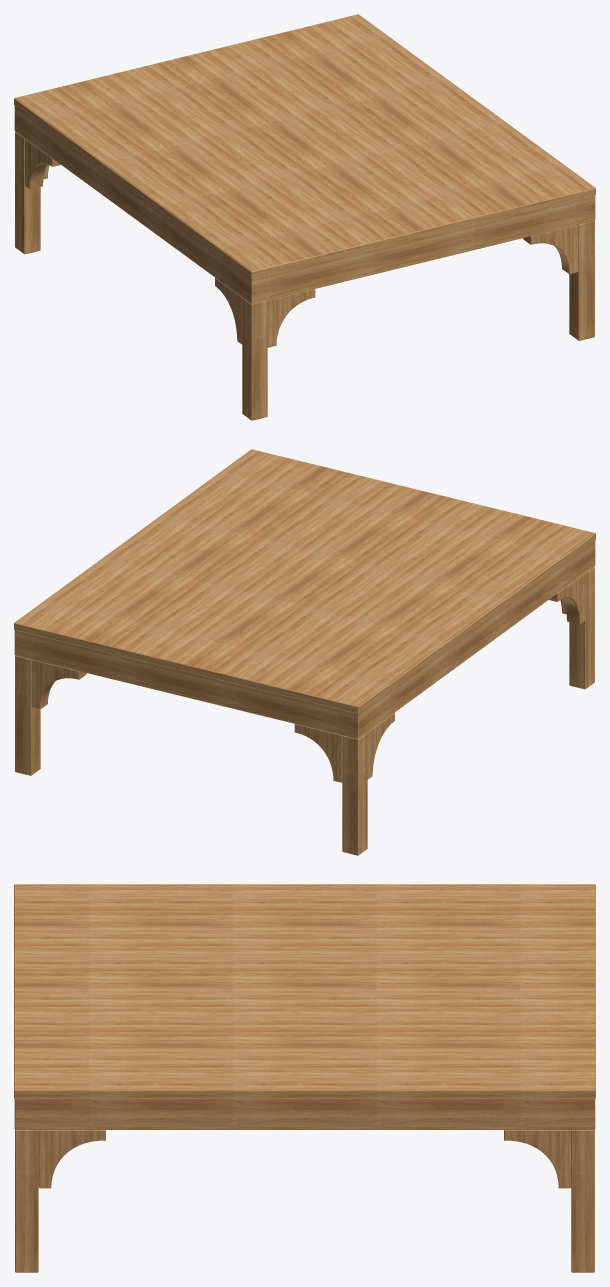
File: Table 2.obj
3 views of the same model, one above another, from view 1: azimuth 30°, elevation 25°; view 2: azimuth 150°, elevation 25°; view 3: azimuth 270°, elevation 25° (orthographic). The views are drawn at different scales.
Visible parts, largest first — view 1: Box02, Box20, Box19, Box21, Rectangle04, Rectangle08, Rectangle05, Rectangle07; view 2: Box02, Box21, Box06, Box20, Rectangle02, Rectangle06, Rectangle07, Rectangle05; view 3: Box02, Box19, Box06, Rectangle03, Rectangle01.
Boxes of the visible parts, bbox=[...] form: Box02: bbox=[14, 14, 595, 303]; Box20: bbox=[242, 297, 267, 420]; Box19: bbox=[569, 220, 594, 340]; Box21: bbox=[15, 131, 40, 254]; Rectangle04: bbox=[523, 225, 578, 274]; Rectangle08: bbox=[267, 289, 315, 347]; Rectangle05: bbox=[25, 138, 60, 189]; Rectangle07: bbox=[215, 277, 242, 344]; Box02: bbox=[14, 449, 595, 738]; Box21: bbox=[342, 732, 367, 855]; Box06: bbox=[15, 655, 40, 775]; Box20: bbox=[569, 566, 594, 689]; Rectangle02: bbox=[31, 659, 86, 709]; Rectangle06: bbox=[294, 724, 342, 782]; Rectangle07: bbox=[549, 573, 584, 624]; Rectangle05: bbox=[367, 712, 394, 779]; Box02: bbox=[14, 884, 595, 1129]; Box19: bbox=[15, 1130, 38, 1272]; Box06: bbox=[571, 1130, 594, 1272]; Rectangle03: bbox=[38, 1130, 105, 1188]; Rectangle01: bbox=[504, 1130, 571, 1188].
Size of the model in its own units: 1018 by 423 by 1215.
